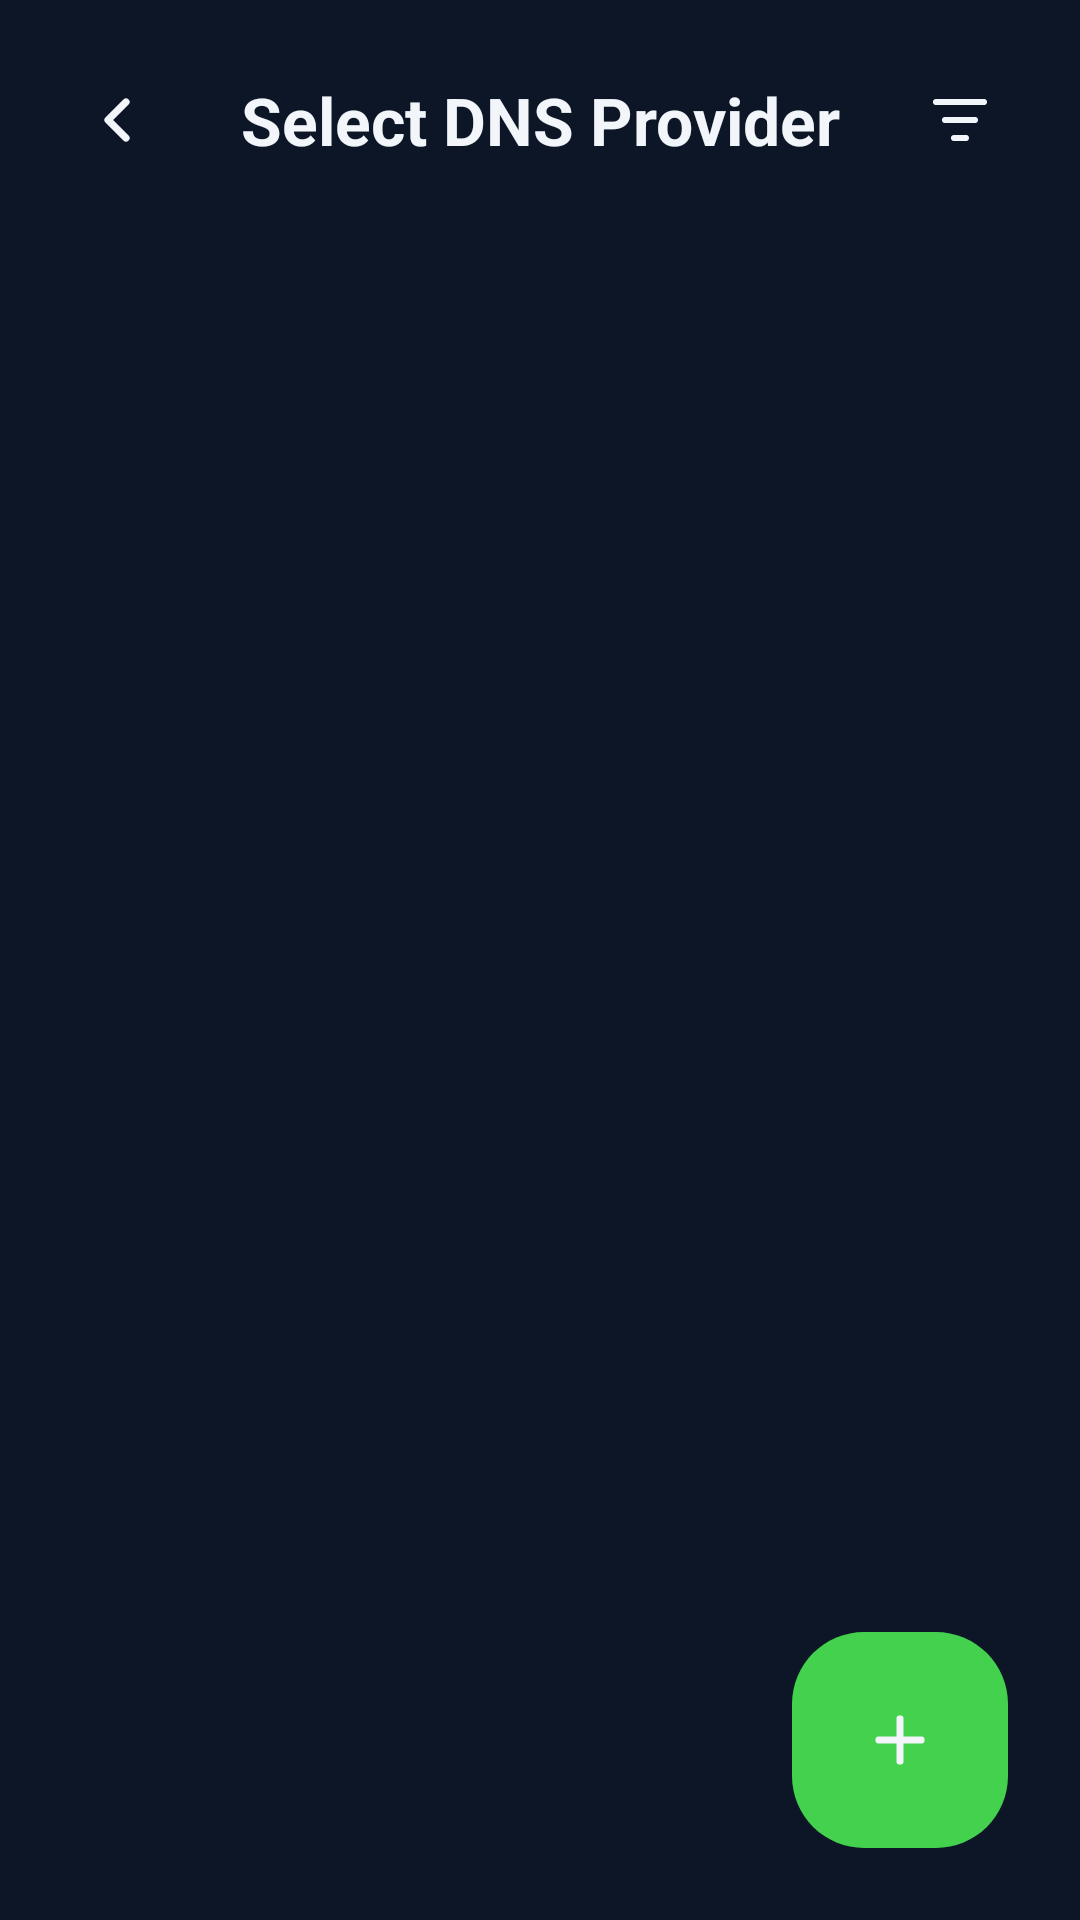

Icon click points for this 1080 x 1920 phone screenshot, format (x,y):
Add: (900,1740)
back: (117,120)
filter: (960,120)
